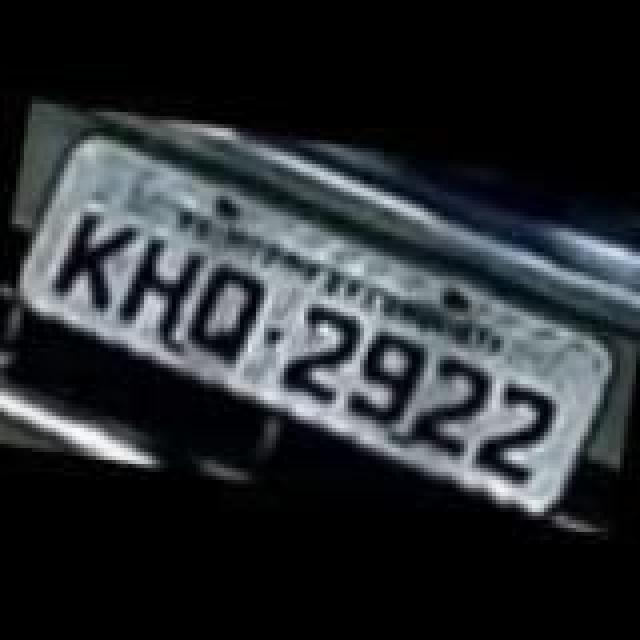2: (476, 380, 560, 492), (278, 298, 362, 410), (408, 354, 492, 462)
9: (344, 332, 428, 436)
H: (110, 236, 210, 352)
K: (50, 206, 138, 314)
Q: (180, 258, 268, 366)
